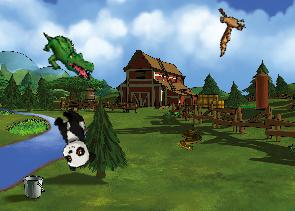crocodile: (33, 30, 101, 82)
eagle: (204, 1, 253, 57)
panda: (48, 105, 98, 172)
